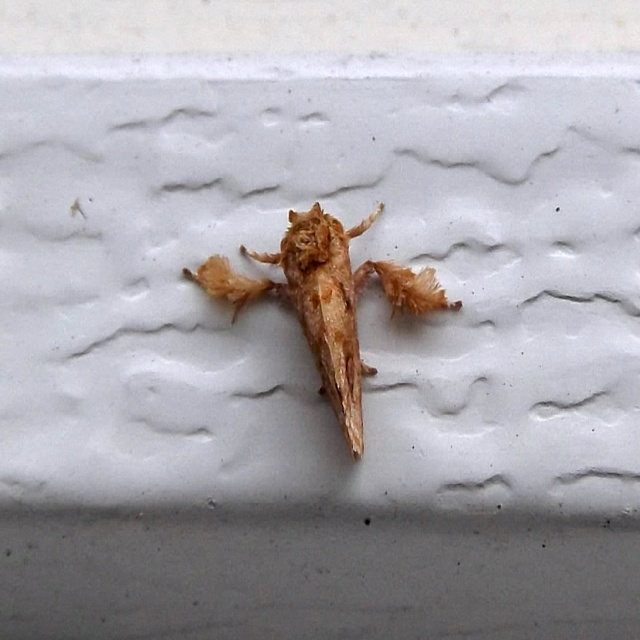Moths and butterflies: (182, 201, 468, 464)
